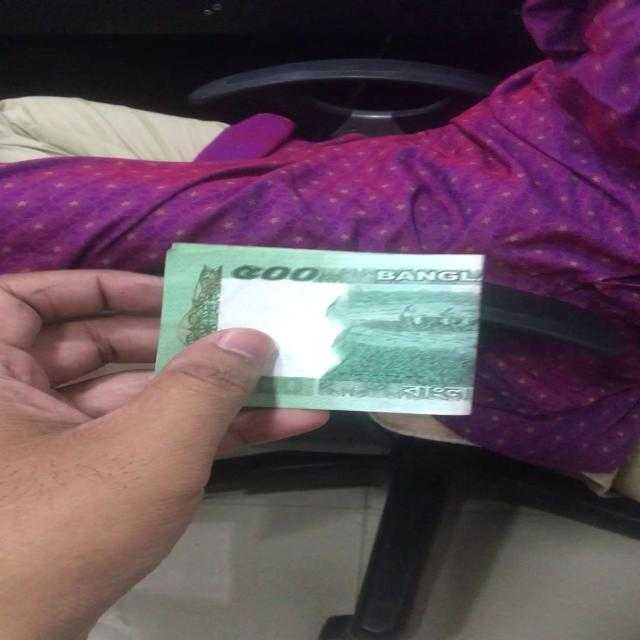Taka: (157, 238, 489, 422)
